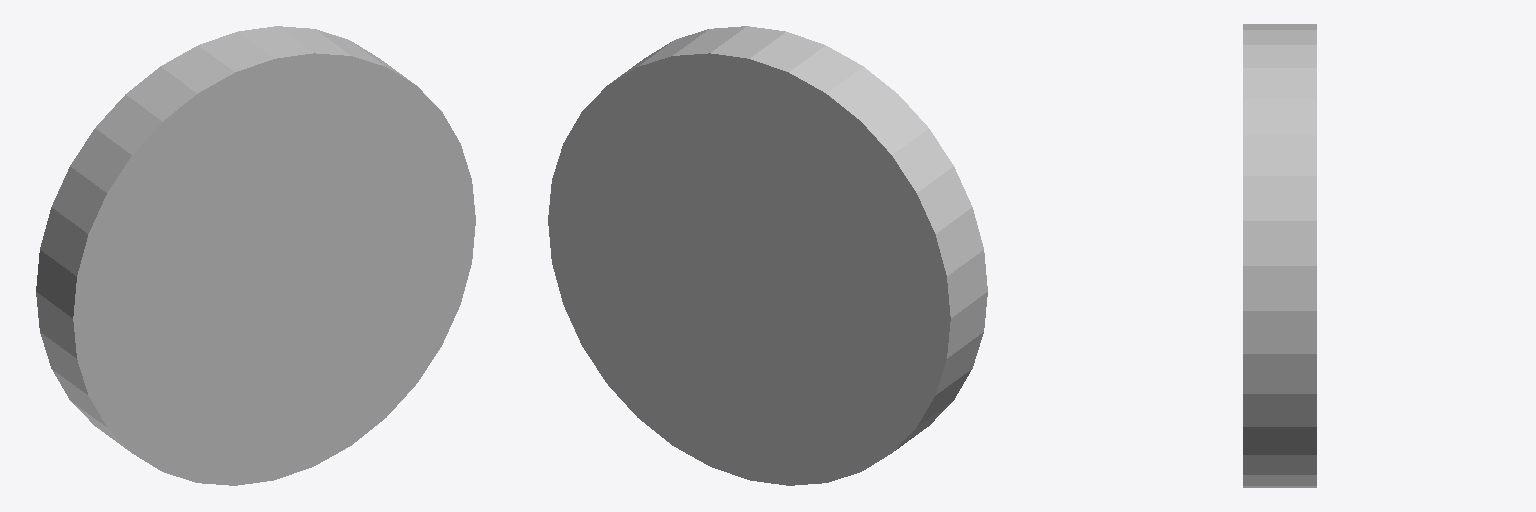
Rendered from winSpot.obj.
3 renders of one model, left to right at view 1: azimuth 30°, elevation 25°; view 2: azimuth 150°, elevation 25°; view 3: azimuth 270°, elevation 25°, orthographic.
Visible parts, largest first — view 1: Cylinder; view 2: Cylinder; view 3: Cylinder.
Part boxes in pixels (x1,y1,x2,y2): Cylinder: (36, 26, 475, 485); Cylinder: (548, 26, 987, 485); Cylinder: (1243, 24, 1316, 487).
Size of the model in its own units: 1 by 1 by 0.16.